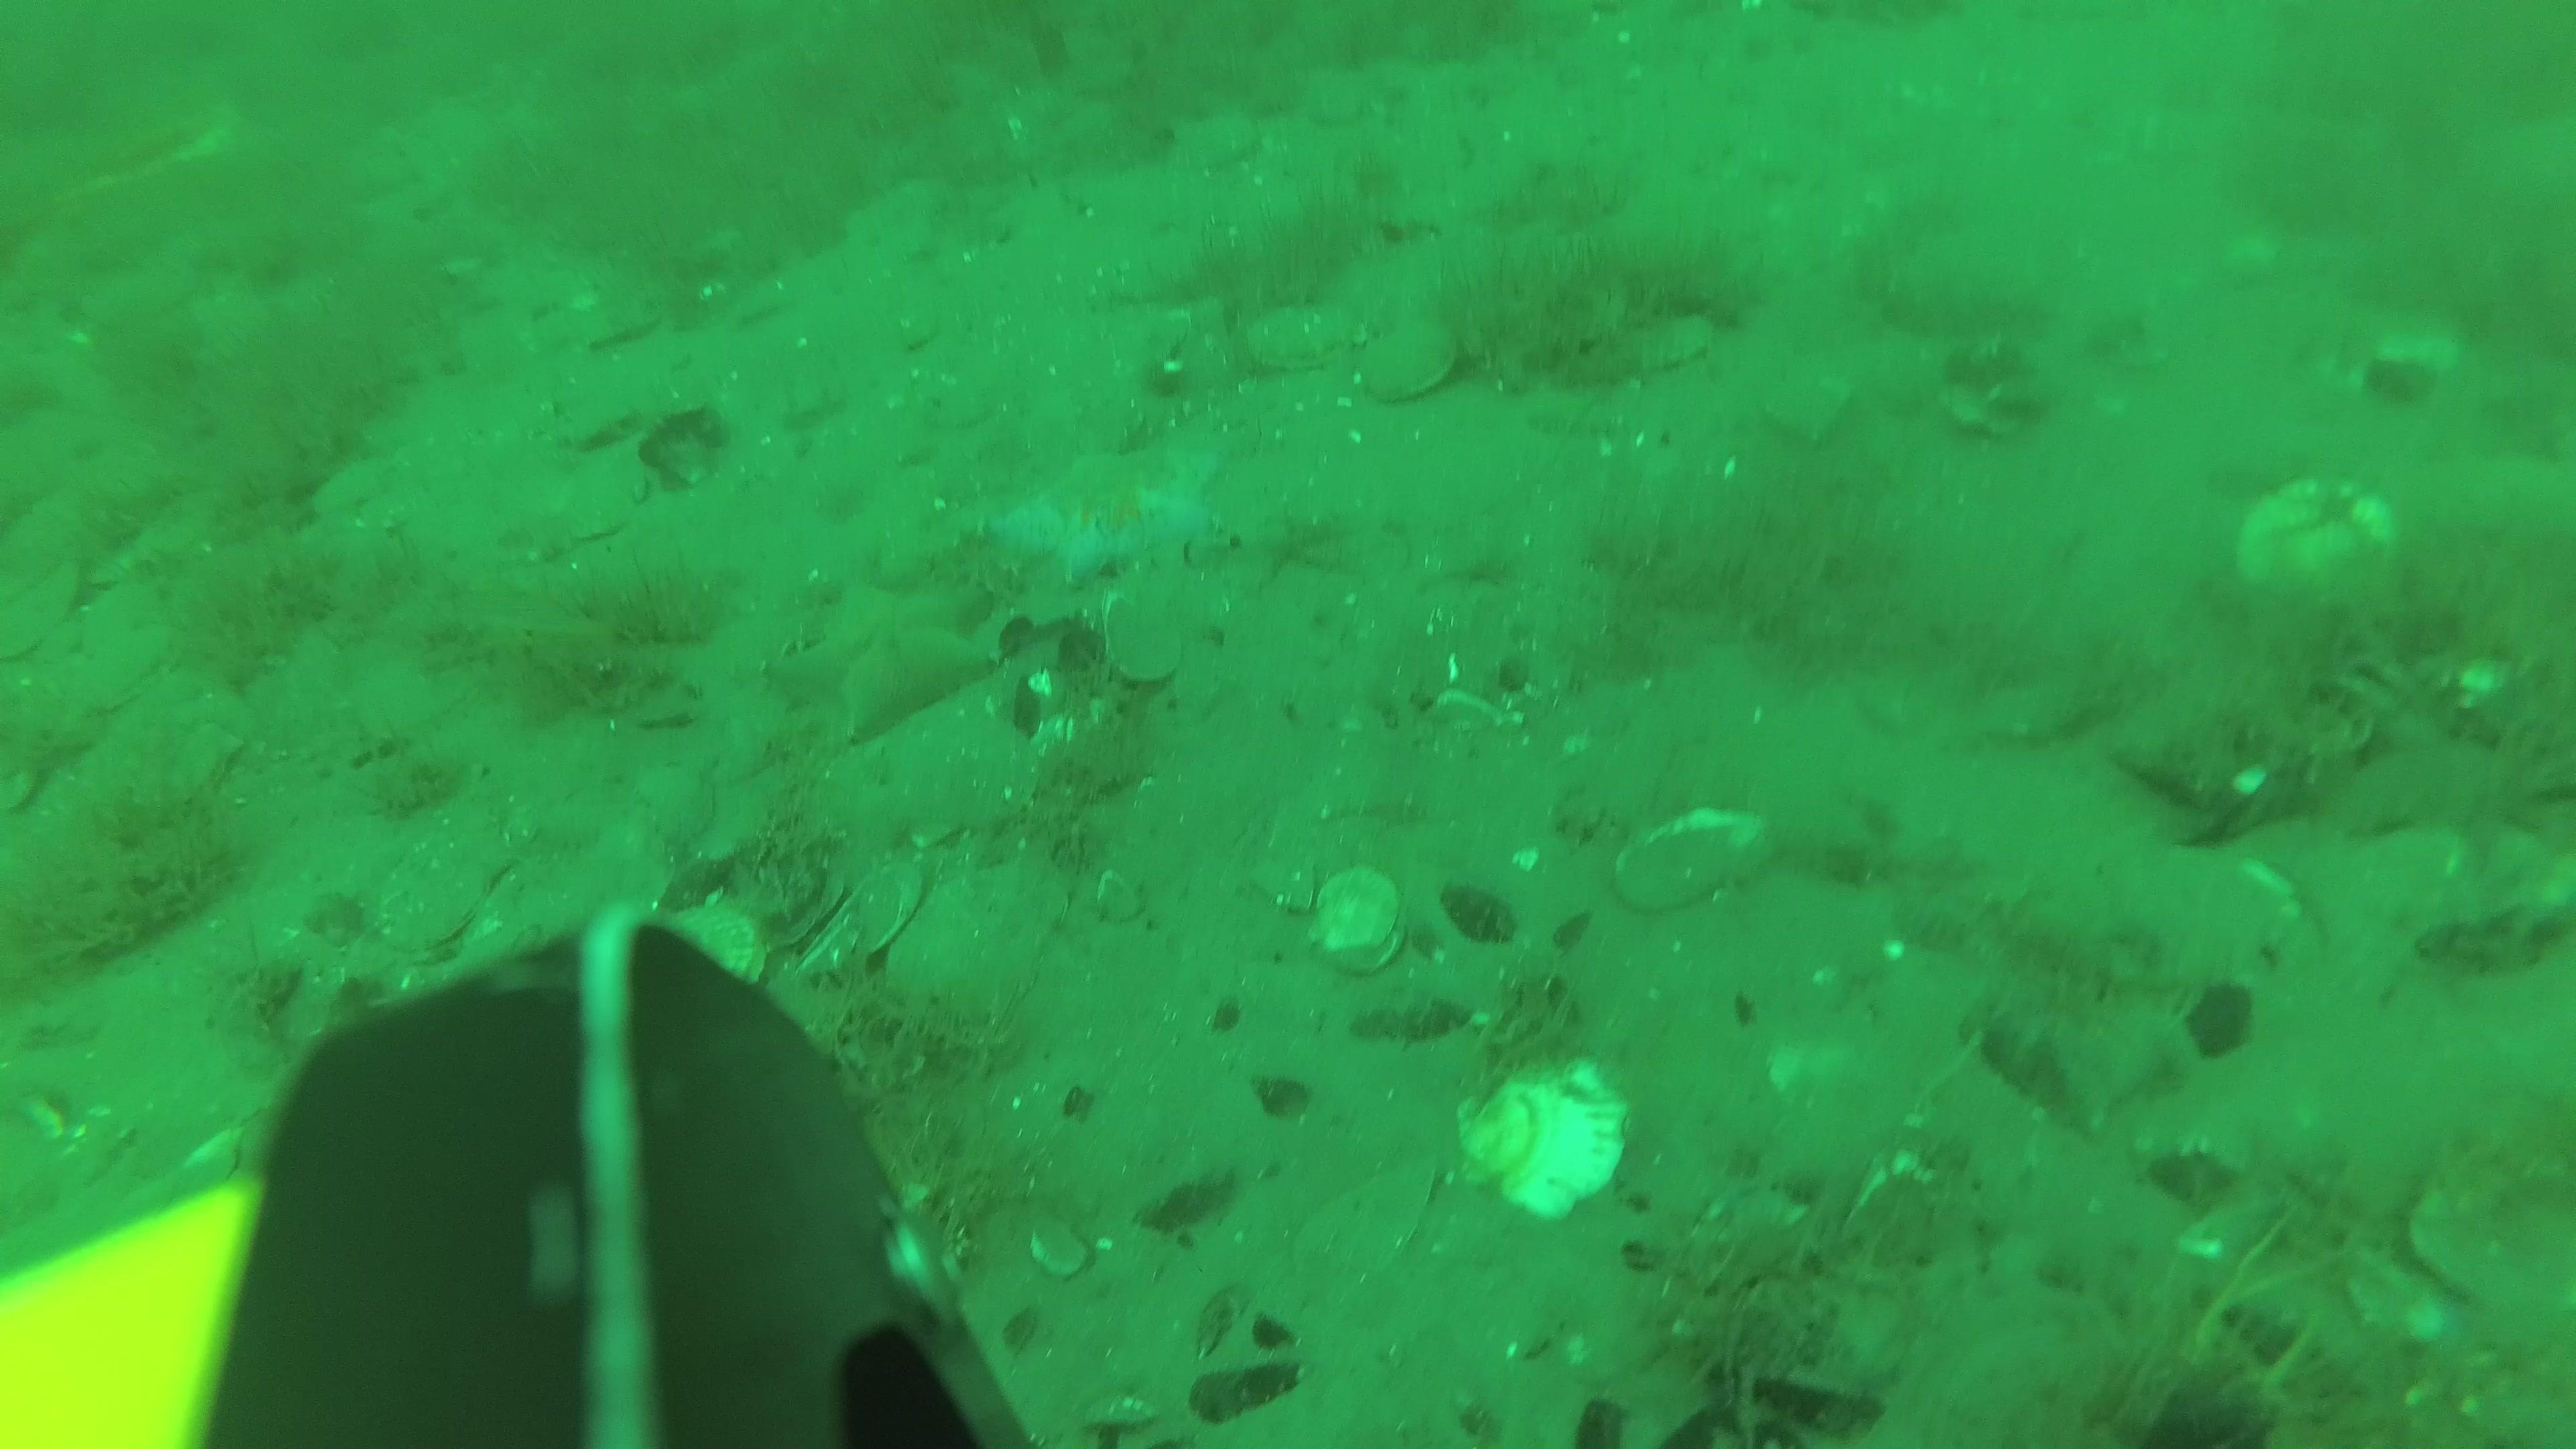echinus: (2187, 977, 2258, 1062)
scallop: (1453, 1058, 1631, 1224), (2229, 474, 2401, 621), (632, 897, 763, 1024), (1610, 814, 1778, 911), (386, 832, 488, 948), (1309, 858, 1407, 978), (1099, 591, 1196, 685), (1350, 326, 1461, 402), (1244, 301, 1359, 372)
starfish: (770, 580, 1001, 740), (996, 439, 1230, 568)
